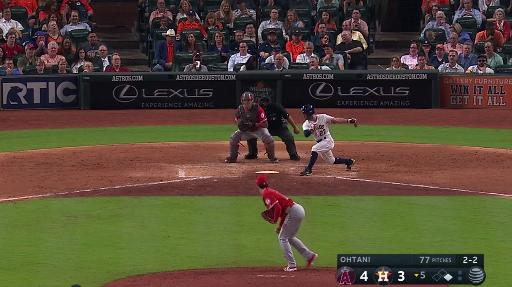pitcher: (254, 174, 321, 272)
